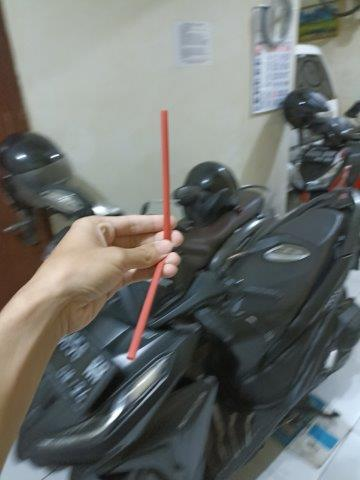sedotan: (128, 112, 171, 356)
